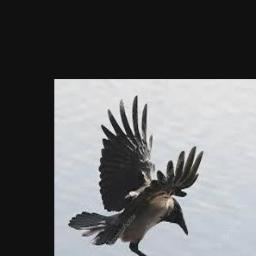Crow: (67, 94, 203, 256)
